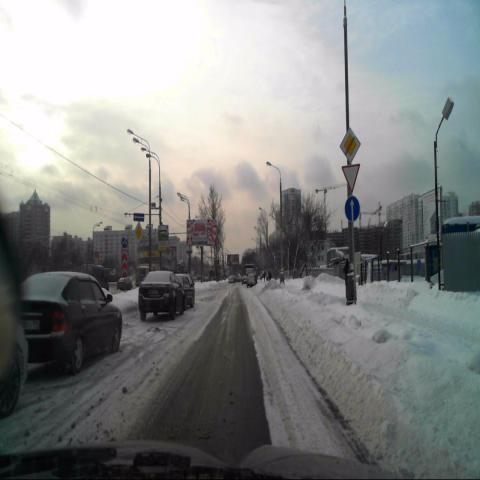2_2: (338, 126, 360, 164)
4_1_1: (344, 195, 360, 223)
